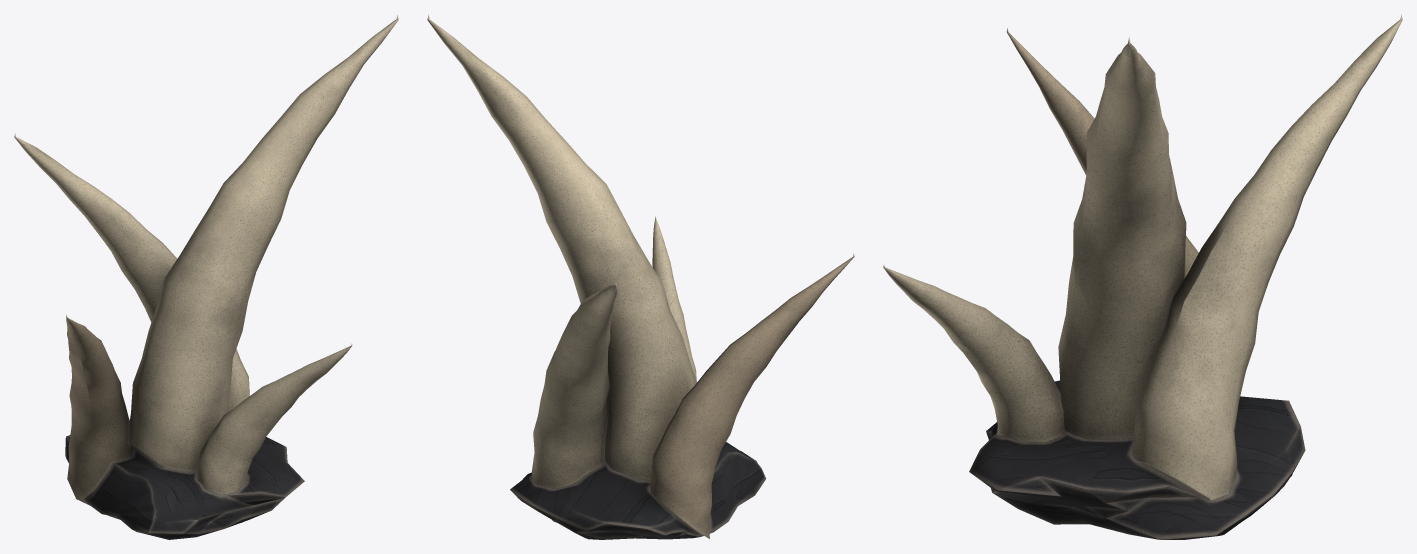
File: BoneSpike.fbx
3 views of the same model, side by side, from view 1: azimuth 30°, elevation 25°; view 2: azimuth 150°, elevation 25°; view 3: azimuth 270°, elevation 25° (orthographic). The views are drawn at different scales.
Parts seen in each view (by area): view 1: BoneSpike; view 2: BoneSpike; view 3: BoneSpike.
Part boxes in pixels (left/top/right/bottom): BoneSpike: left=14, top=15, right=398, bottom=539; BoneSpike: left=427, top=14, right=854, bottom=539; BoneSpike: left=883, top=14, right=1402, bottom=539.
Bounding box in the file's own units: 220 × 251 × 191.
